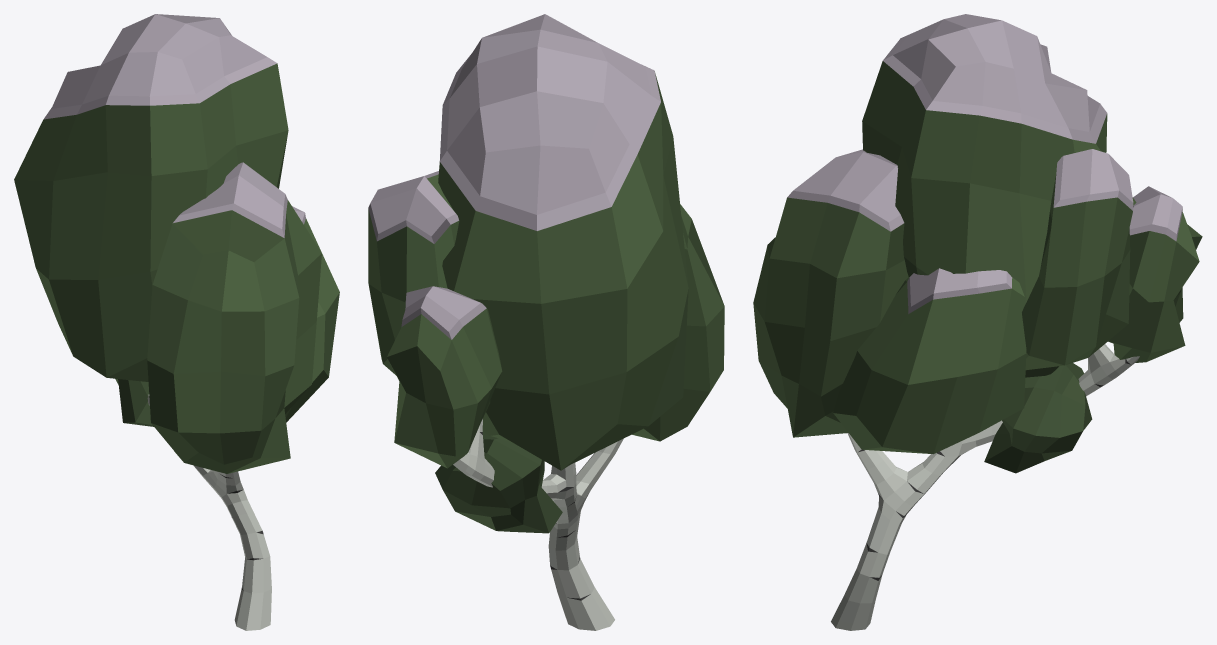
Rendered from BirchTree_Snow_1.glb.
3 views of the same model, side by side, from view 1: azimuth 30°, elevation 25°; view 2: azimuth 150°, elevation 25°; view 3: azimuth 270°, elevation 25° (orthographic). The views are drawn at different scales.
Visible parts, largest first — view 1: BirchTree_Snow_1_Cube.135; view 2: BirchTree_Snow_1_Cube.135; view 3: BirchTree_Snow_1_Cube.135.
Part boxes in pixels (x1,y1,x2,y2): BirchTree_Snow_1_Cube.135: (14, 14, 339, 630); BirchTree_Snow_1_Cube.135: (368, 14, 724, 630); BirchTree_Snow_1_Cube.135: (753, 14, 1202, 630).
Bounding box in the file's own units: 1.7 × 3.59 × 2.48.
Materials: 1 (1 with a texture image).
